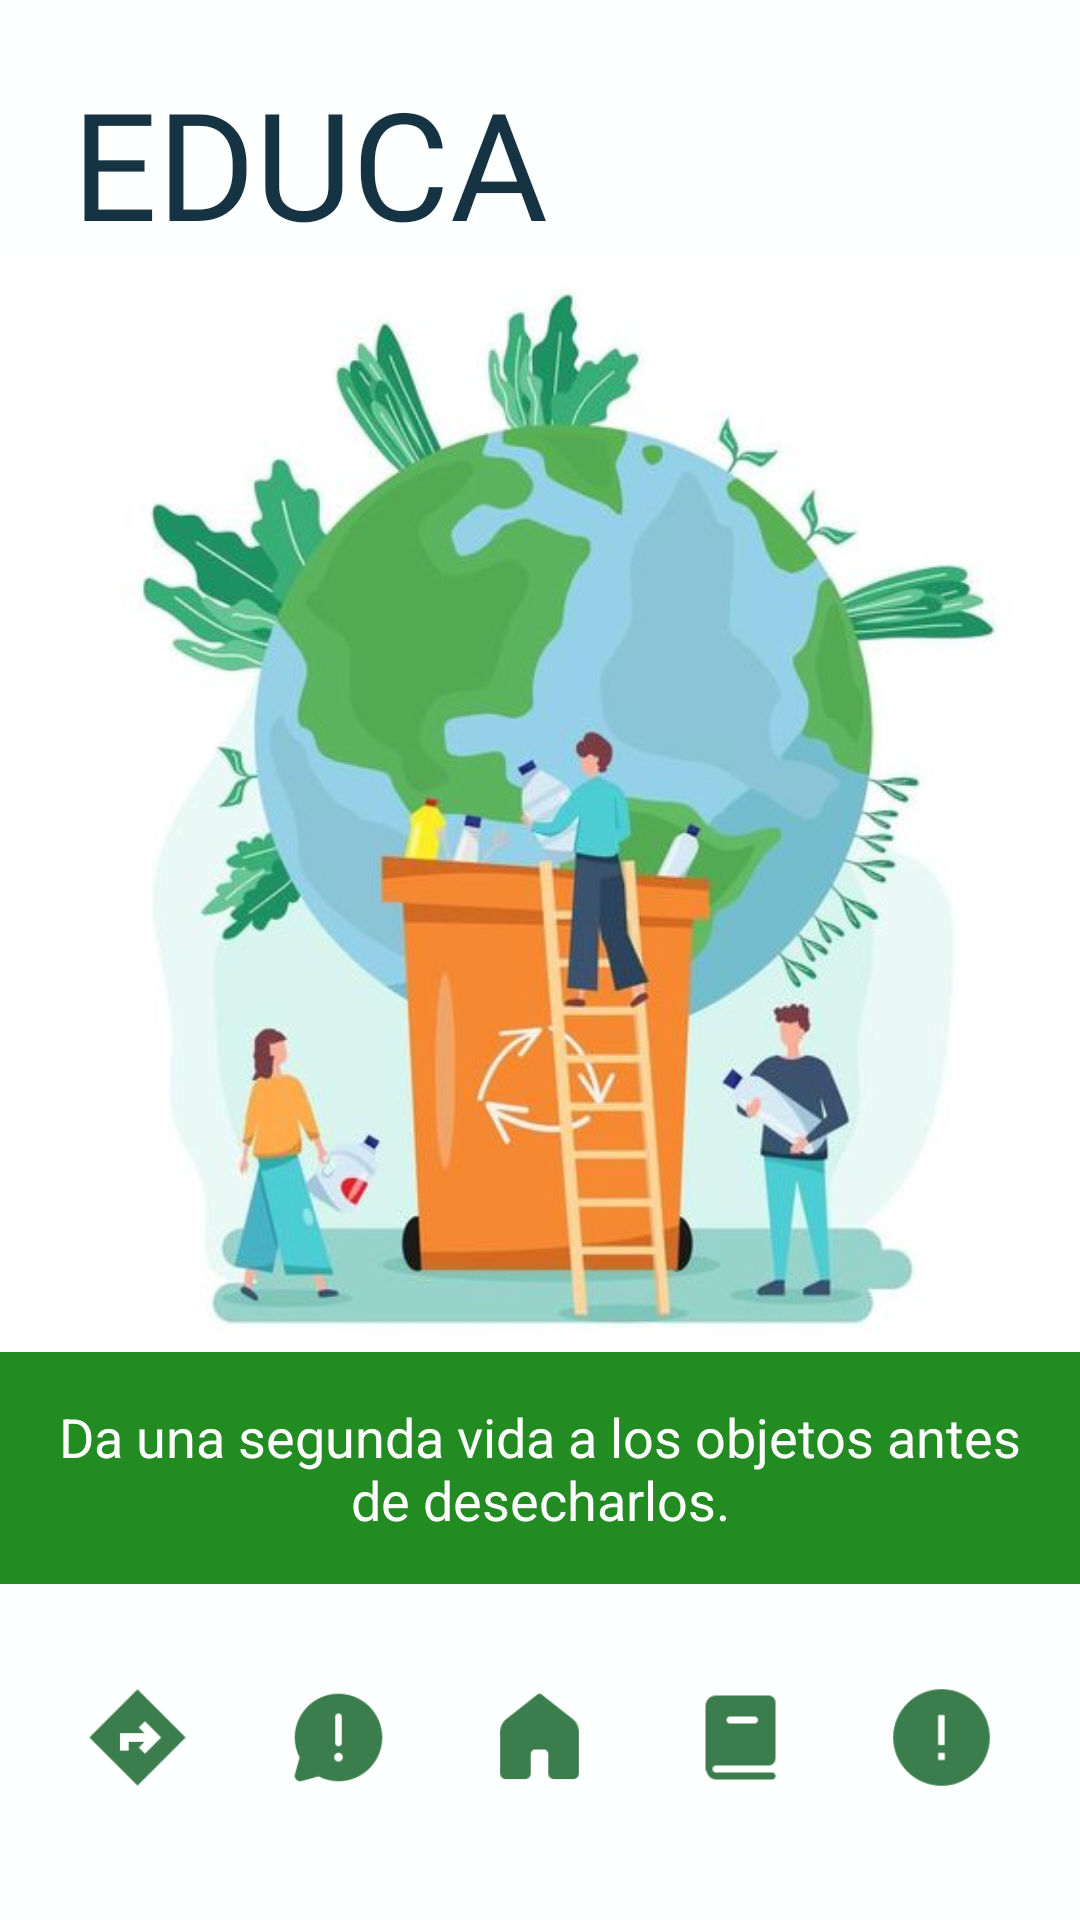

Locate icon controls on the screen. Image size 1080px x 1920px, boxes as rect(x1, y1, x2, y2).
educaicono: rect(705, 1695, 776, 1780)
inicioicono: rect(500, 1693, 579, 1779)
rutasicono: rect(89, 1689, 186, 1786)
